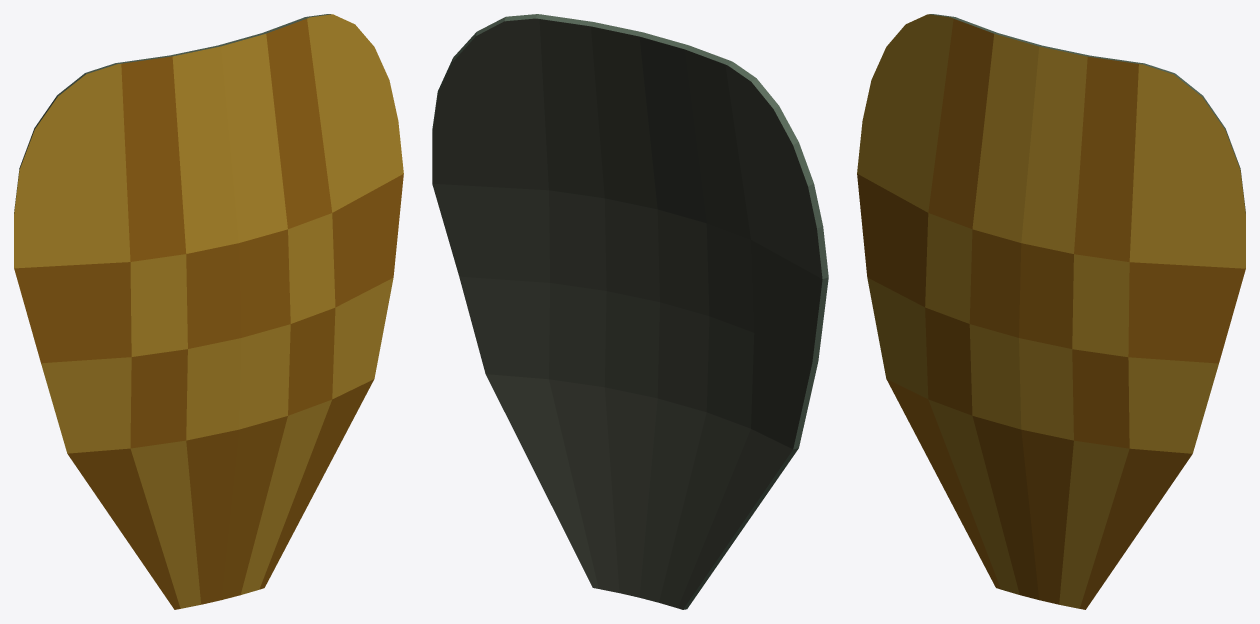
Rendered from shield.fbx.
The picture shows the model from 3 angles, left to right: view 1: azimuth 30°, elevation 25°; view 2: azimuth 150°, elevation 25°; view 3: azimuth 330°, elevation 25°; orthographic projection.
Parts seen in each view (by area): view 1: Shield; view 2: Shield; view 3: Shield.
Part boxes in pixels (left/top/right/bottom): Shield: left=14, top=14, right=403, bottom=609; Shield: left=432, top=14, right=828, bottom=609; Shield: left=857, top=14, right=1245, bottom=609.
Bounding box in the file's own units: 118 × 161 × 21.07.
